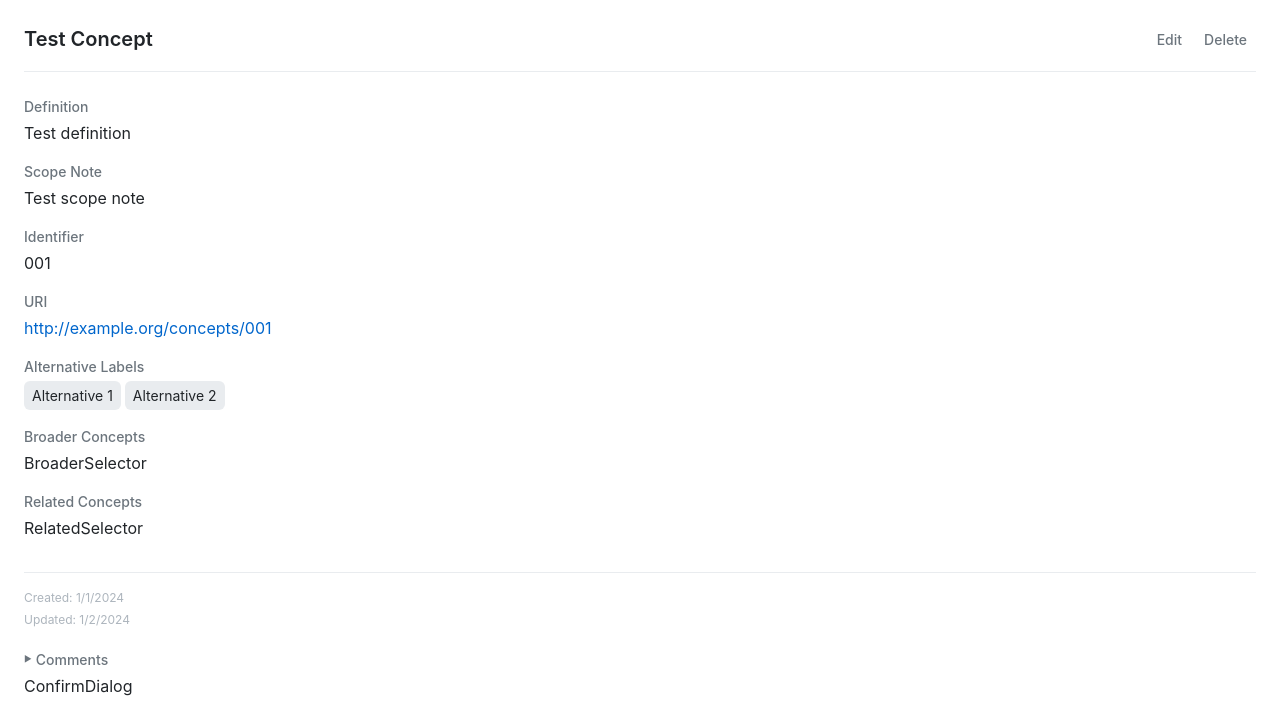
Test: ConceptDetail › cancel functionality › should discard changes when Cancel button clicked
The image size is (1280, 709).
Click the button "Edit". click: (1169, 40)
box: [1148,24,1191,55]
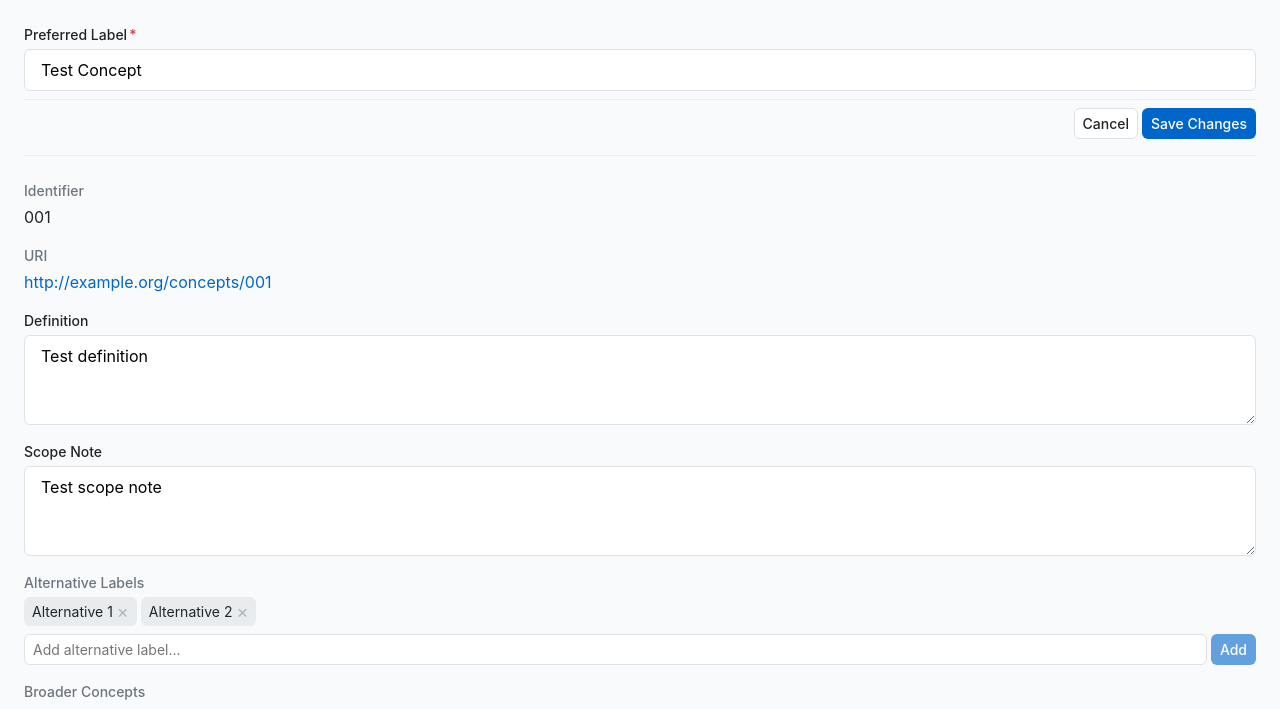
Replace the text in the field labelled "Preferred Label*" with "Changed". click: (640, 70)
box: [24,49,1256,91]
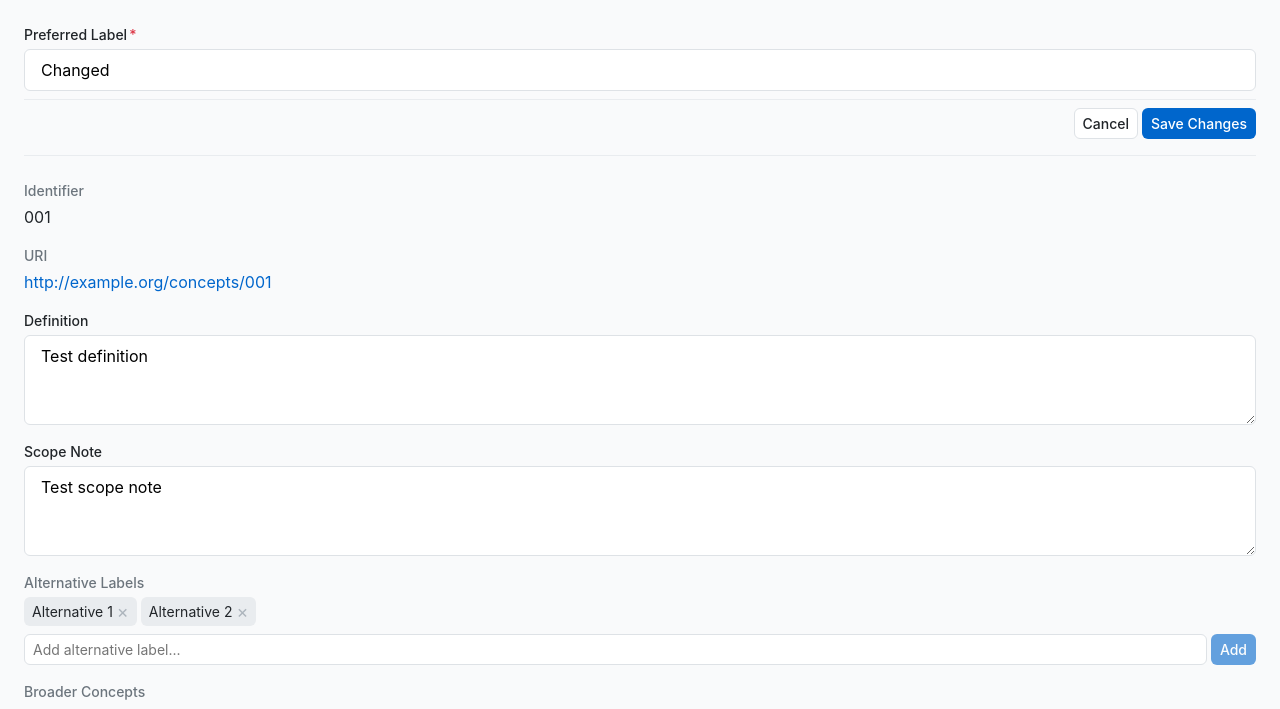
Click the button "Cancel". click: (1106, 124)
box: [1074,108,1138,139]
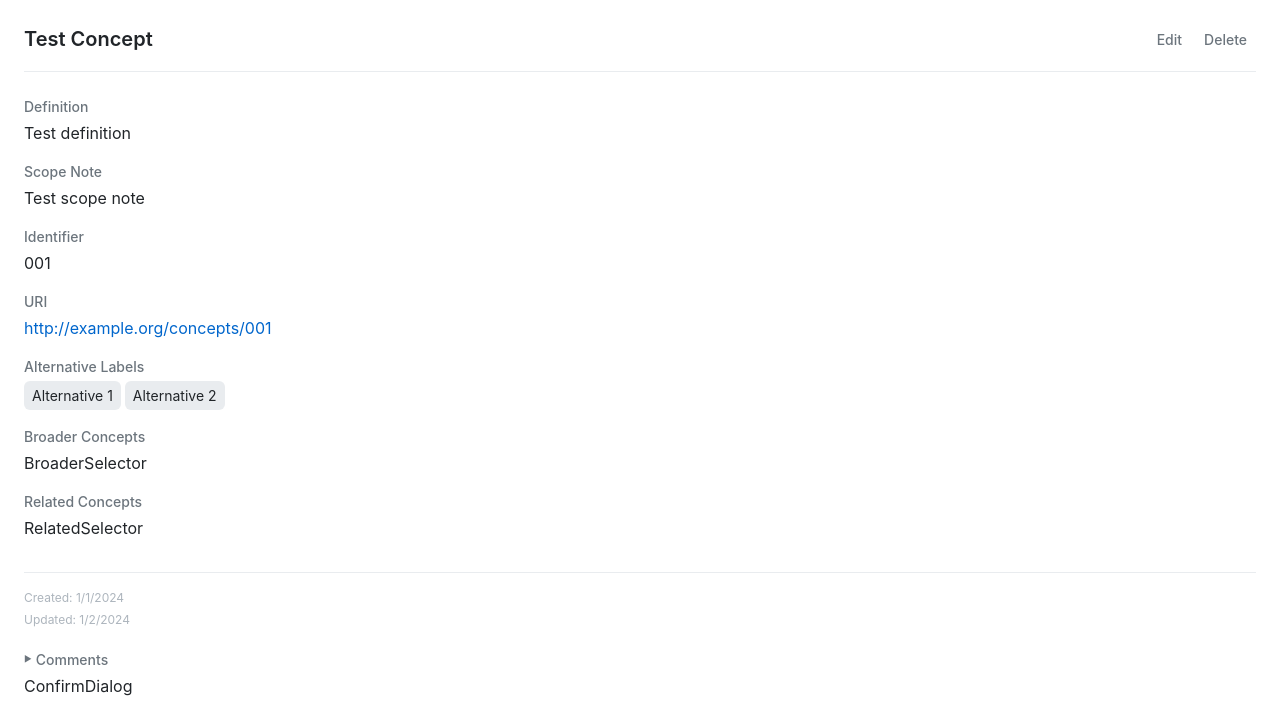
Expected: the button "Cancel" is gone
Expected: the button "Edit" is shown, [1148,24,1191,55]
Expected: the heading "Test Concept" is shown, [24,24,153,54]
